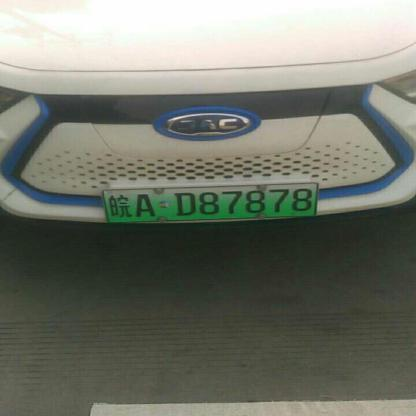lp: (102, 182, 318, 222)
